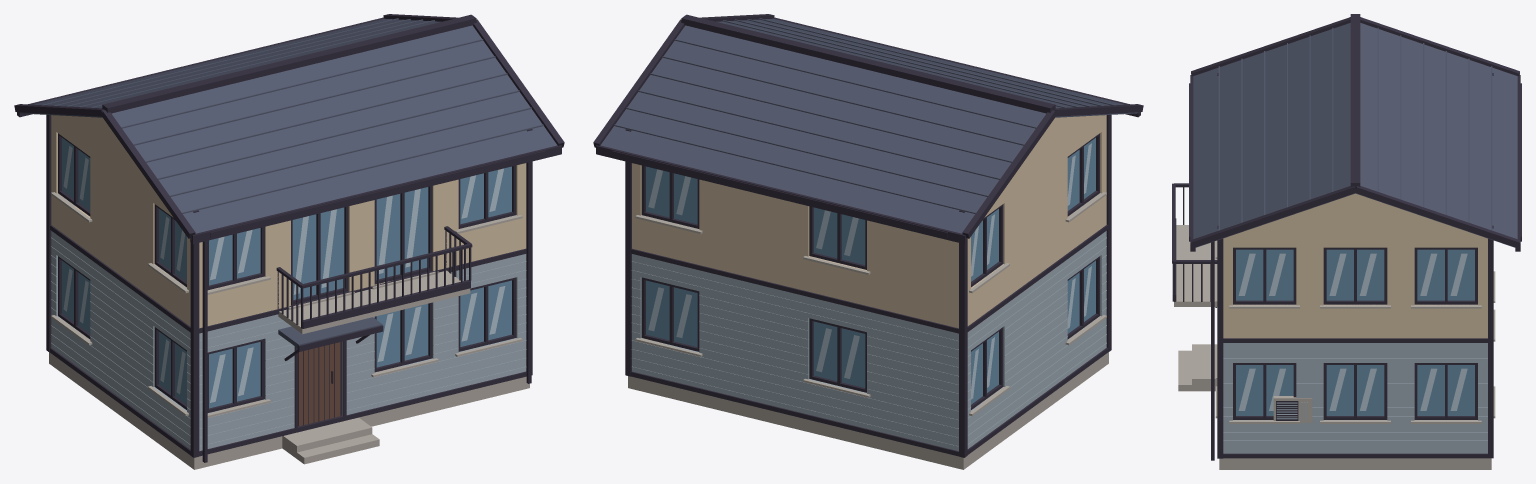
File: SM_SakuraHouse01_Assembled.fbx
3 renders of one model, left to right at view 1: azimuth 30°, elevation 25°; view 2: azimuth 150°, elevation 25°; view 3: azimuth 270°, elevation 25°, orthographic. The views are drawn at different scales.
Visible parts, largest first — view 1: H01_Roof_Front_2, H01_Roof_Front_3, H01_Roof_Front_1, H01_Roof_Front_4, H01_Left_L1_Bay2_Wall, H01_Left_L2_Bay2_Wall, H01_Front_L1_Bay1_Wall, H01_Front_L1_Bay4_Wall, H01_Front_L2_Bay3_BalconyDoor, H01_Front_L2_Bay2_BalconyDoor, H01_Front_L1_Bay3_Wall, H01_Front_L1_Bay2_Door (+52 smaller); view 2: H01_Roof_Back_2, H01_Roof_Back_3, H01_Roof_Back_1, H01_Roof_Back_4, H01_Back_L1_Bay2_Wall, H01_Back_L1_Bay4_Wall, H01_Back_L2_Bay2_Wall, H01_Back_L2_Bay4_Wall, H01_Back_L1_Bay3_Wall, H01_Back_L1_Bay1_Wall, H01_Left_L1_Bay2_Wall, H01_Left_L2_Bay2_Wall (+39 smaller); view 3: H01_Roof_Back_1, H01_Roof_Front_1, H01_Roof_Back_2, H01_Roof_Back_3, H01_Roof_Back_4, H01_Roof_Front_2, H01_Roof_Front_3, H01_Roof_Front_4, H01_Right_L1_Bay2_Wall, H01_Right_L2_Bay2_Wall, H01_Right_L1_Bay3_Wall, H01_Right_L2_Bay3_Wall (+41 smaller).
Boxes of the visible parts, left/top/right/bottom form: H01_Roof_Front_2: left=207, top=70, right=377, bottom=219; H01_Roof_Front_3: left=291, top=49, right=461, bottom=198; H01_Roof_Front_1: left=123, top=90, right=293, bottom=239; H01_Roof_Front_4: left=375, top=29, right=545, bottom=178; H01_Left_L1_Bay2_Wall: left=97, top=265, right=145, bottom=416; H01_Left_L2_Bay2_Wall: left=97, top=146, right=145, bottom=293; H01_Front_L1_Bay1_Wall: left=190, top=314, right=278, bottom=450; H01_Front_L1_Bay4_Wall: left=446, top=255, right=526, bottom=390; H01_Front_L2_Bay3_BalconyDoor: left=372, top=186, right=438, bottom=289; H01_Front_L2_Bay2_BalconyDoor: left=288, top=206, right=354, bottom=309; H01_Front_L1_Bay3_Wall: left=362, top=299, right=446, bottom=411; H01_Front_L1_Bay2_Door: left=294, top=340, right=346, bottom=428; H01_Roof_Back_2: left=780, top=70, right=950, bottom=219; H01_Roof_Back_3: left=696, top=49, right=866, bottom=198; H01_Roof_Back_1: left=864, top=90, right=1034, bottom=239; H01_Roof_Back_4: left=612, top=29, right=782, bottom=178; H01_Back_L1_Bay2_Wall: left=711, top=273, right=795, bottom=411; H01_Back_L1_Bay4_Wall: left=879, top=314, right=967, bottom=451; H01_Back_L2_Bay2_Wall: left=712, top=182, right=795, bottom=288; H01_Back_L2_Bay4_Wall: left=879, top=223, right=967, bottom=327; H01_Back_L1_Bay3_Wall: left=795, top=294, right=879, bottom=431; H01_Back_L1_Bay1_Wall: left=631, top=254, right=711, bottom=390; H01_Left_L1_Bay2_Wall: left=1012, top=265, right=1060, bottom=416; H01_Left_L2_Bay2_Wall: left=1012, top=146, right=1060, bottom=293; H01_Roof_Back_1: left=1360, top=29, right=1520, bottom=120; H01_Roof_Front_1: left=1190, top=29, right=1350, bottom=120; H01_Roof_Back_2: left=1360, top=67, right=1520, bottom=159; H01_Roof_Back_3: left=1360, top=106, right=1520, bottom=197; H01_Roof_Back_4: left=1360, top=144, right=1520, bottom=235; H01_Roof_Front_2: left=1190, top=67, right=1350, bottom=159; H01_Roof_Front_3: left=1190, top=106, right=1350, bottom=197; H01_Roof_Front_4: left=1190, top=144, right=1350, bottom=235; H01_Right_L1_Bay2_Wall: left=1310, top=343, right=1400, bottom=453; H01_Right_L2_Bay2_Wall: left=1310, top=232, right=1400, bottom=338; H01_Right_L1_Bay3_Wall: left=1401, top=343, right=1487, bottom=453; H01_Right_L2_Bay3_Wall: left=1401, top=232, right=1487, bottom=338.
Size of the model in its own units: 8.94 by 7.71 by 7.17.
